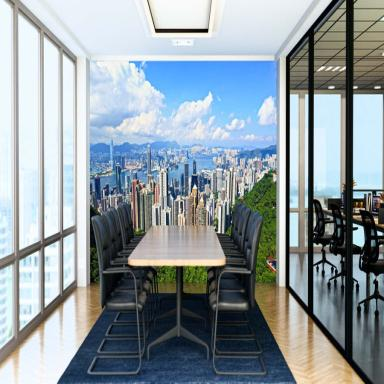glass_panel: (353, 2, 384, 268), (314, 5, 344, 277), (19, 8, 38, 316), (290, 43, 309, 295), (1, 0, 14, 338), (314, 96, 343, 240), (43, 34, 59, 248), (353, 96, 383, 209), (64, 52, 76, 278), (18, 248, 41, 334), (76, 57, 84, 239), (0, 260, 14, 357), (44, 238, 60, 310), (300, 94, 308, 217), (62, 231, 74, 293), (290, 214, 298, 248)
